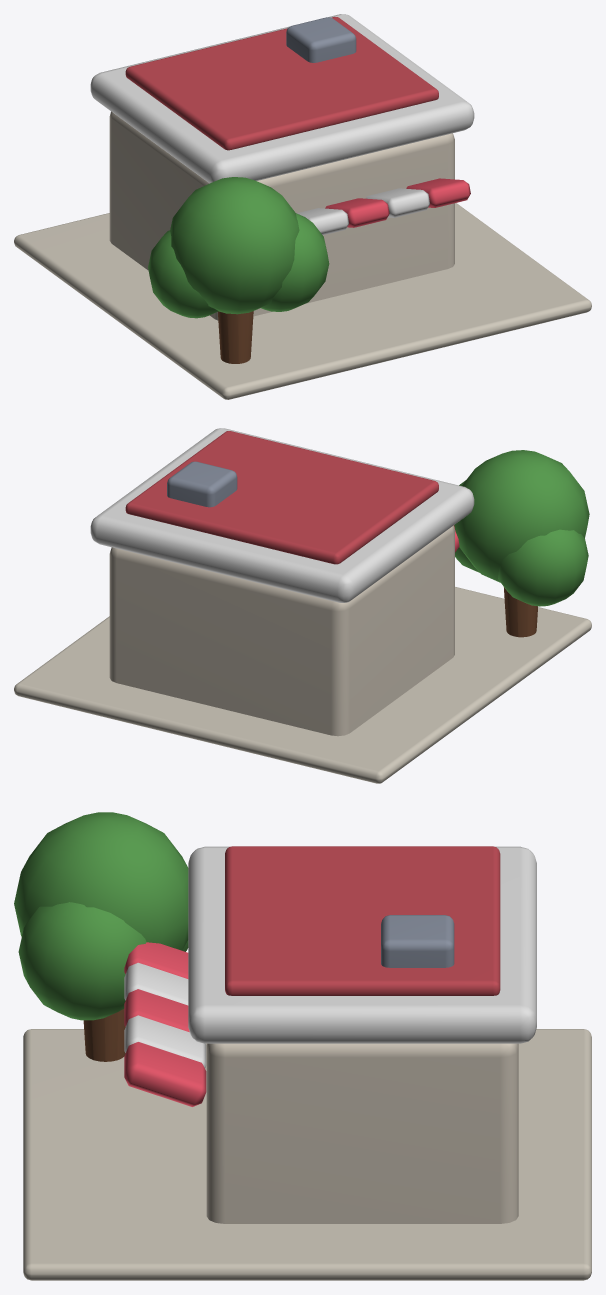
3 renders of one model, top to bottom at view 1: azimuth 30°, elevation 25°; view 2: azimuth 150°, elevation 25°; view 3: azimuth 270°, elevation 25°, orthographic. The views are drawn at different scales.
Parts seen in each view (by area): view 1: Cube; view 2: Cube; view 3: Cube.
Boxes of the visible parts, <box> form: Cube: <box>14,14,591,399</box>; Cube: <box>14,428,591,783</box>; Cube: <box>14,812,591,1280</box>.
Bounding box in the file's own units: 0.6682 × 0.33 × 0.63.
